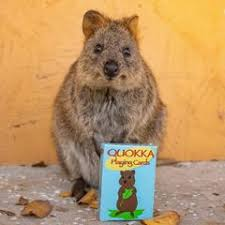quokka: (35, 5, 171, 200)
